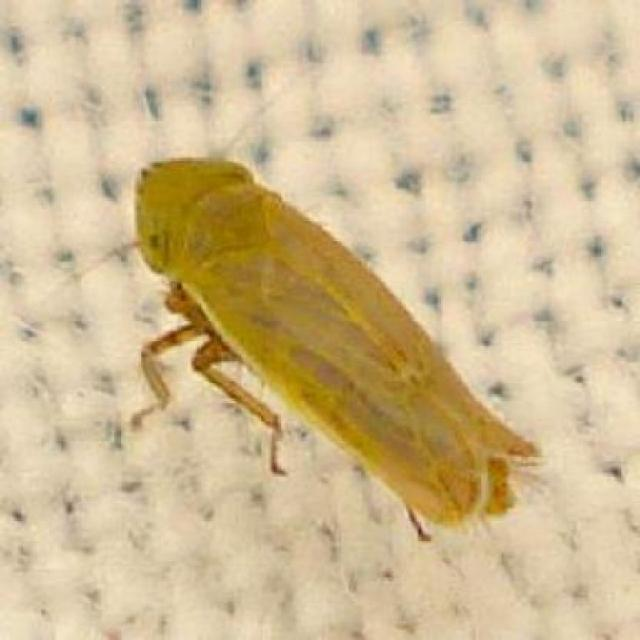green-leafhopper: (132, 158, 523, 524)
